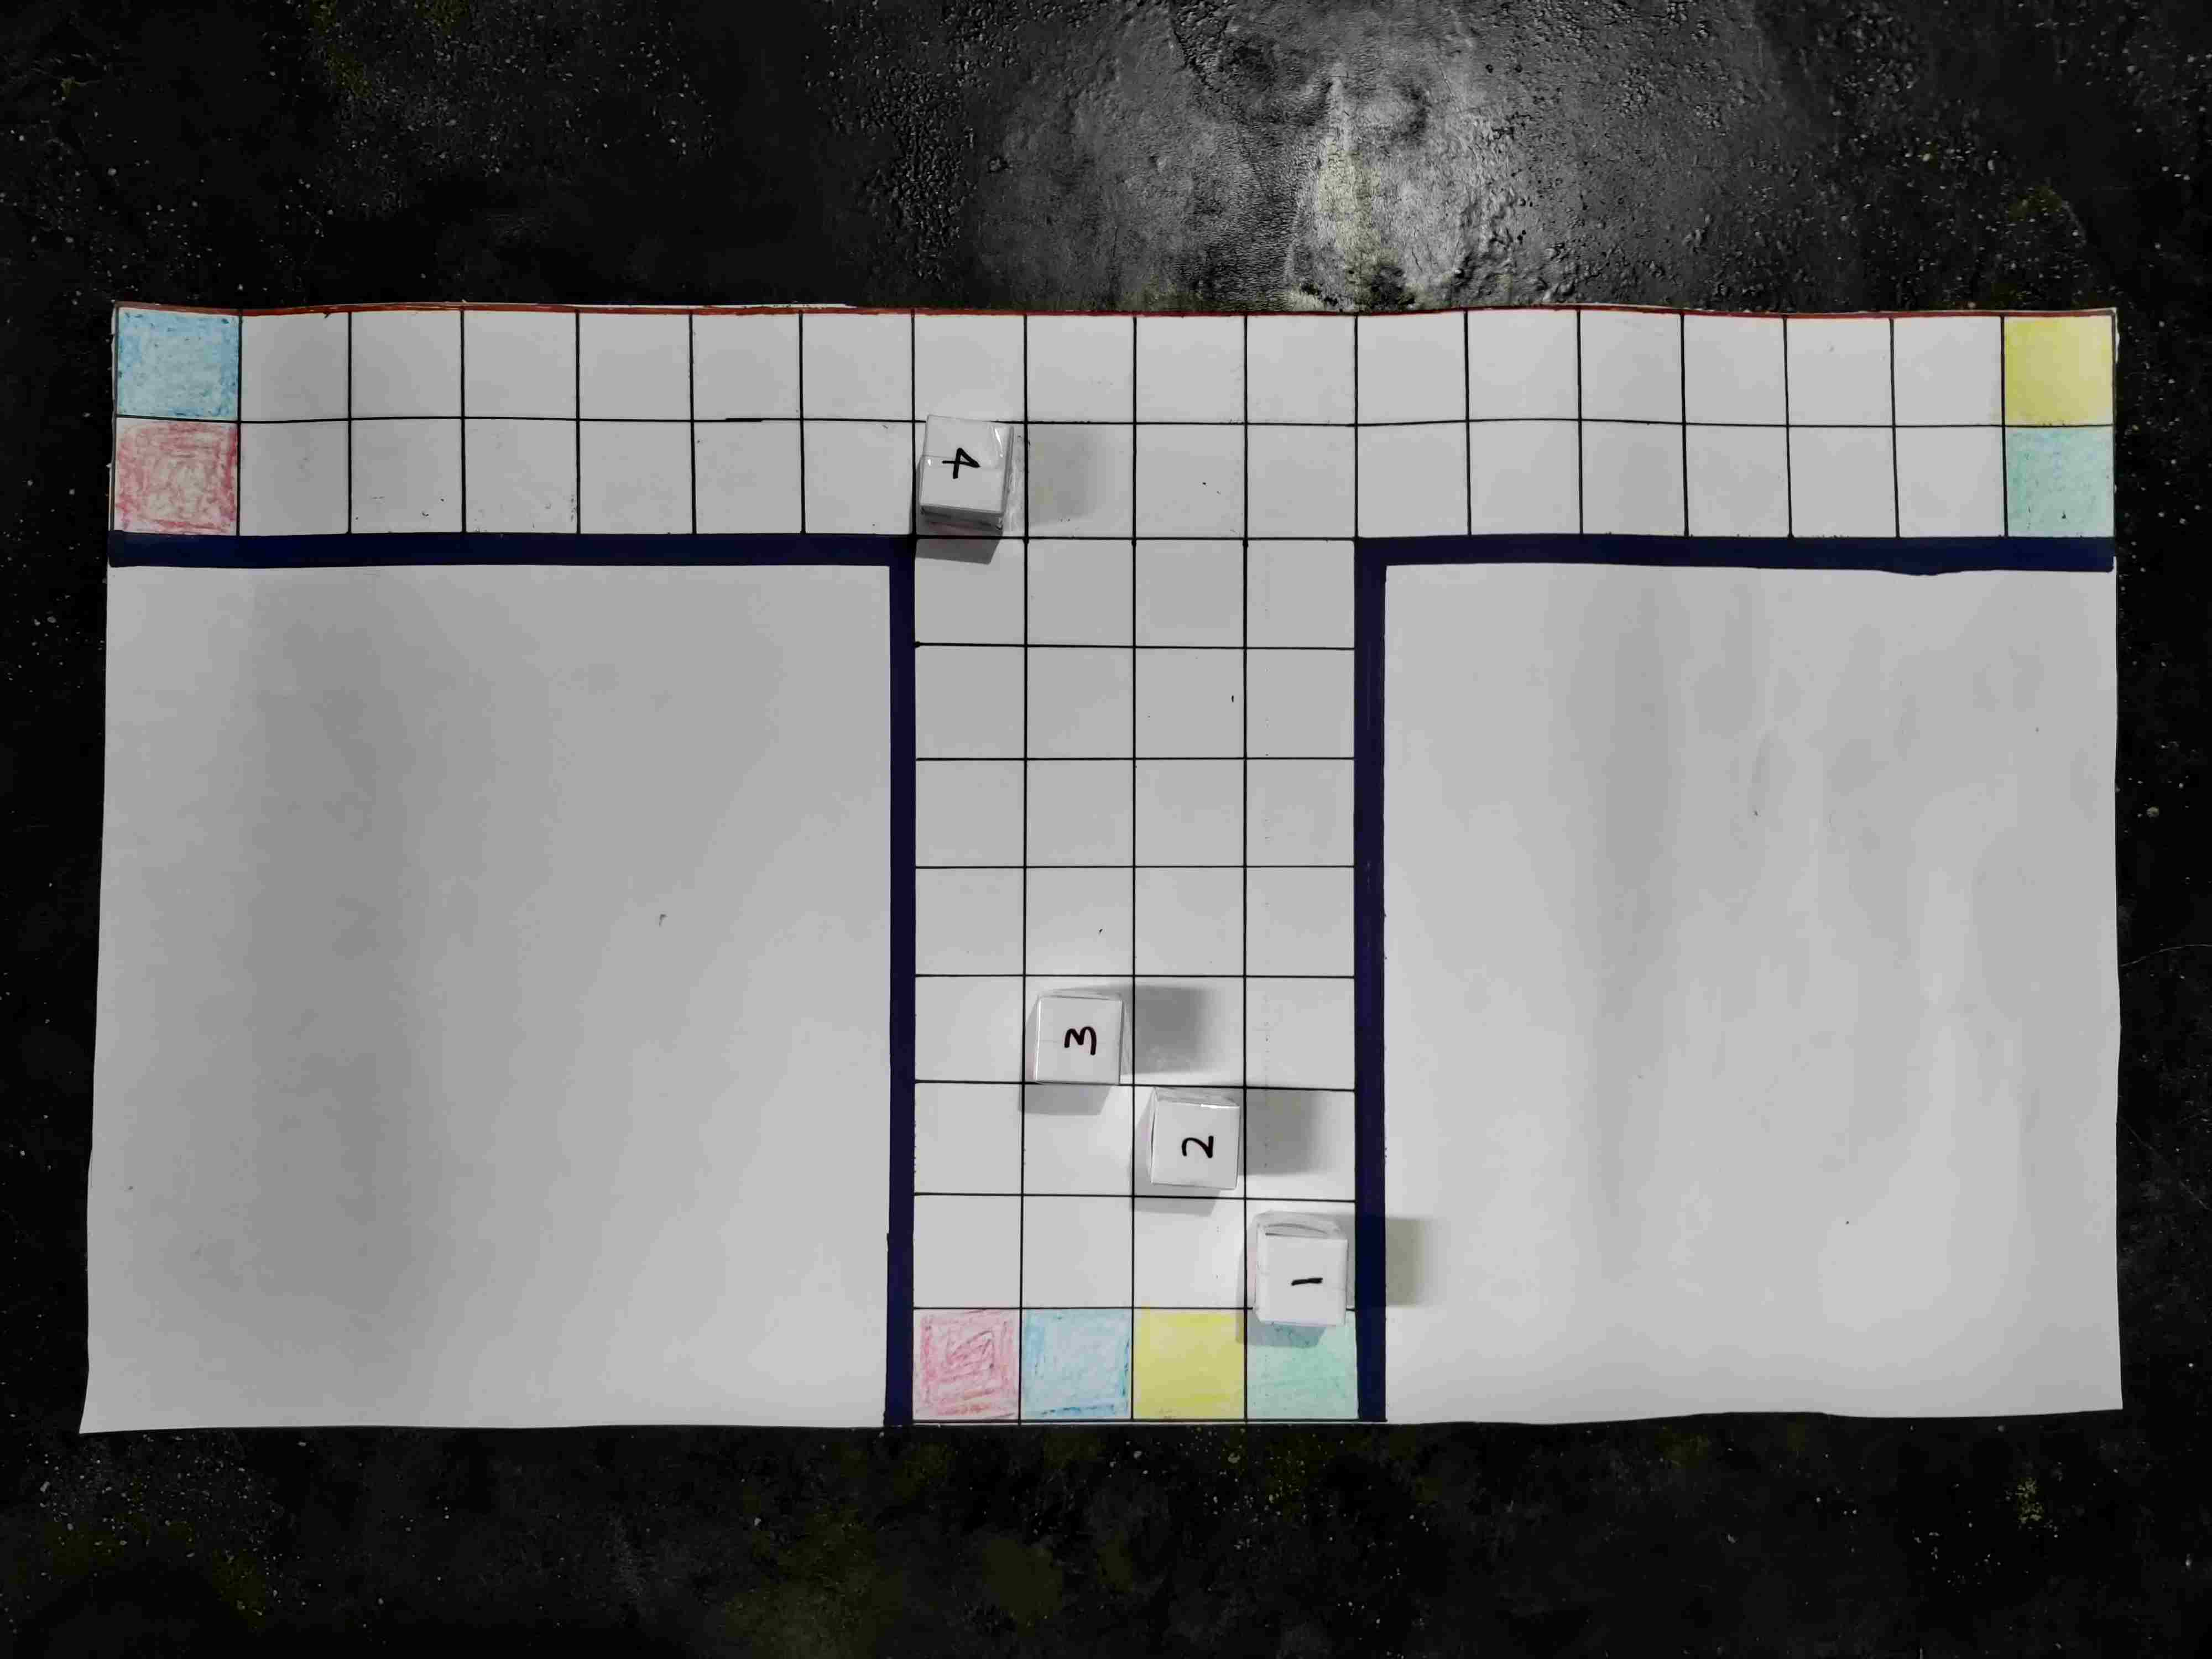arena: (310, 246, 2151, 1248)
bot: (646, 1068, 726, 1157), (1237, 460, 1322, 542), (1982, 1066, 2066, 1141), (1141, 962, 1217, 1035)
